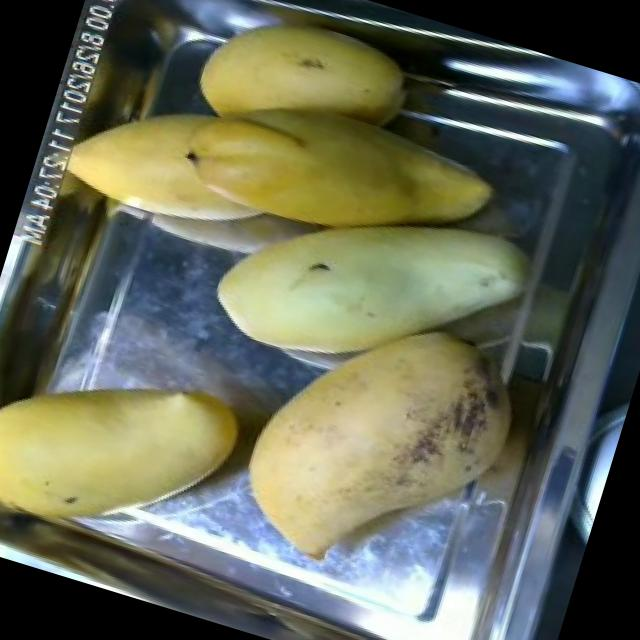fruit: (137, 0, 542, 316), (212, 266, 542, 614), (182, 143, 554, 434), (0, 319, 261, 567)
